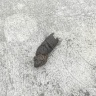Dog: (34, 33, 59, 67)
